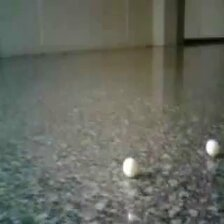w: (122, 156, 138, 178), (205, 139, 219, 157)
